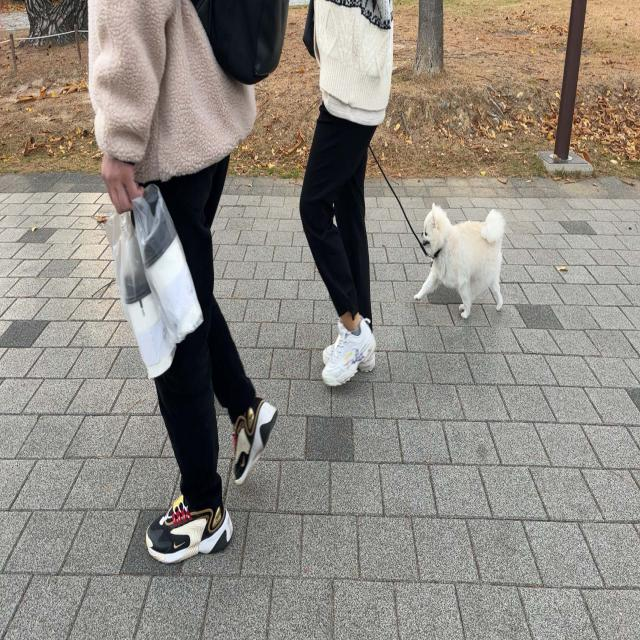Leashed_Dog: (342, 103, 506, 320)
